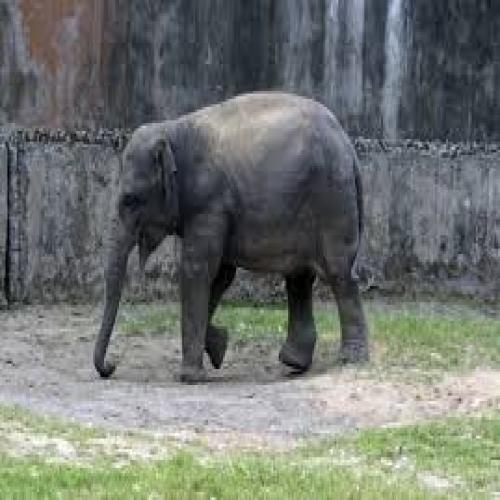asian_elephant-endangered: (94, 93, 368, 383)
